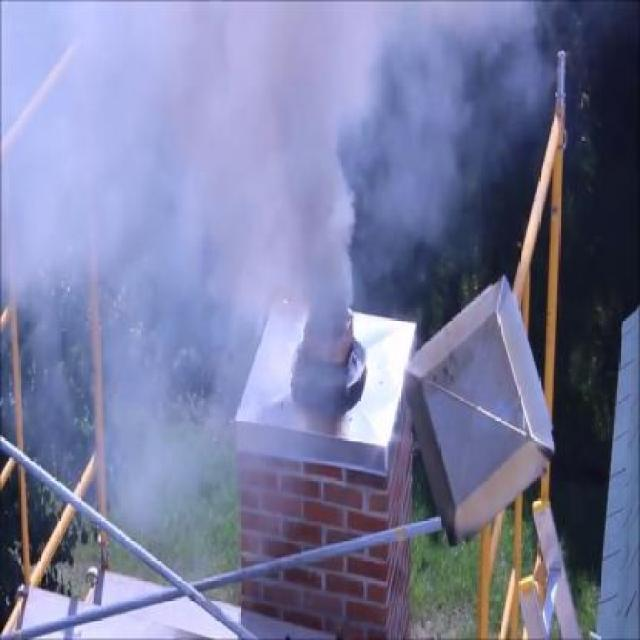Smoke: (6, 0, 534, 359)
